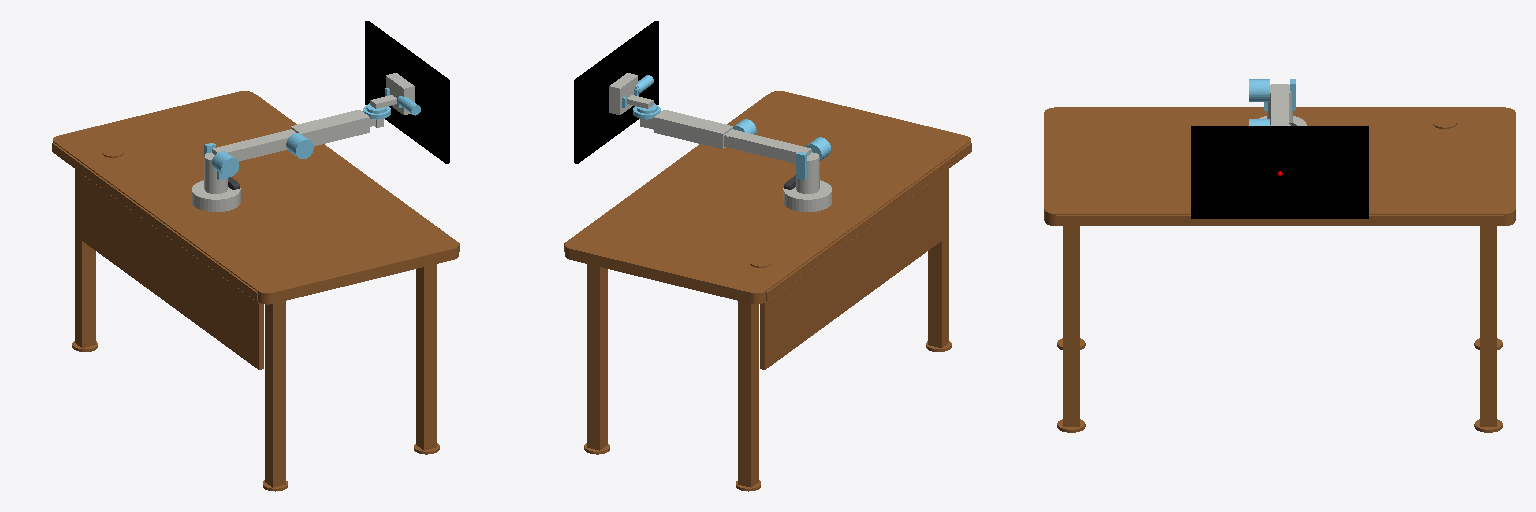
The robot description file, URDF, robot "face_screen_support_arm_depth_camera":
<?xml version='1.0' encoding='utf-8'?>
<robot name="face_screen_support_arm_depth_camera">
  <material name="depth_camera_lens">
    <color rgba="0 0 0 1" />
  </material>
  <material name="depth_camera_body">
    <color rgba="0.30 0.31 0.33 1" />
  </material>
  <material name="neutral_gray">
    <color rgba="0.78 0.78 0.76 1" />
  </material>
  <material name="joint_sky_blue">
    <color rgba="0.529 0.808 0.922 1" />
  </material>
  <material name="screen_black">
    <color rgba="0 0 0 1" />
  </material>
  <material name="center_red">
    <color rgba="1 0 0 1" />
  </material>
  <material name="office_desk_wood">
    <color rgba="0.62 0.42 0.24 1" />
  </material>
  <link name="desk_link">
    <visual name="office_desk">
      <geometry>
        <mesh filename="../meshes/office_desk.stl" scale="0.001 0.001 0.001" />
      </geometry>
      <material name="office_desk_wood" />
    </visual>
    <collision>
      <geometry>
        <mesh filename="../meshes/office_desk.stl" scale="0.001 0.001 0.001" />
      </geometry>
    </collision>
    <inertial>
      <origin xyz="0 0 0.37" rpy="0 0 0" />
      <mass value="25.0" />
      <inertia ixx="4.3" ixy="0" ixz="0" iyy="1.4" iyz="0" izz="5.4" />
    </inertial>
  </link>
  <joint name="desk_to_arm_base" type="fixed">
    <origin xyz="-0.150 0.000 0.740" rpy="0 0 0" />
    <parent link="desk_link" />
    <child link="base_link" />
  </joint>
  <link name="base_link">
    <visual name="base_disc">
      <geometry>
        <mesh filename="../visuals/base_disc.stl" scale="0.001 0.001 0.001" />
      </geometry>
      <material name="neutral_gray" />
    </visual>
    <visual name="mast">
      <geometry>
        <mesh filename="../visuals/mast.stl" scale="0.001 0.001 0.001" />
      </geometry>
      <material name="neutral_gray" />
    </visual>
    <visual name="depth_camera_body">
      <origin xyz="0.038 0.000 0.060" rpy="1.570796 0 1.570796" />
      <geometry>
        <mesh filename="../visuals/depth_camera_body.stl" scale="0.001 0.001 0.001" />
      </geometry>
      <material name="depth_camera_body" />
    </visual>
    <visual name="depth_camera_lens">
      <origin xyz="0.038 0.000 0.060" rpy="1.570796 0 1.570796" />
      <geometry>
        <mesh filename="../visuals/depth_camera_lens.stl" scale="0.001 0.001 0.001" />
      </geometry>
      <material name="depth_camera_lens" />
    </visual>
    <collision>
      <geometry>
        <mesh filename="../meshes/base_link.stl" scale="0.001 0.001 0.001" />
      </geometry>
    </collision>
    <inertial>
      <origin xyz="0 0 0.05" />
      <mass value="2.0" />
      <inertia ixx="0.02" ixy="0" ixz="0" iyy="0.02" iyz="0" izz="0.02" />
    </inertial>
  </link>
  <joint name="joint1_base_yaw" type="revolute">
    <origin xyz="0 0 0.16" rpy="0 0 0" />
    <parent link="base_link" />
    <child link="yaw_link" />
    <axis xyz="0 0 1" />
    <limit lower="-2.61799" upper="2.61799" effort="30" velocity="1.5" />
  </joint>
  <link name="yaw_link">
    <visual name="yaw_bearing">
      <geometry>
        <mesh filename="../visuals/yaw_bearing.stl" scale="0.001 0.001 0.001" />
      </geometry>
      <material name="joint_sky_blue" />
    </visual>
    <visual name="shoulder_yoke_l">
      <geometry>
        <mesh filename="../visuals/shoulder_yoke_l.stl" scale="0.001 0.001 0.001" />
      </geometry>
      <material name="joint_sky_blue" />
    </visual>
    <visual name="shoulder_yoke_r">
      <geometry>
        <mesh filename="../visuals/shoulder_yoke_r.stl" scale="0.001 0.001 0.001" />
      </geometry>
      <material name="joint_sky_blue" />
    </visual>
    <visual name="joint2_axis_hint">
      <geometry>
        <mesh filename="../visuals/joint2_axis_hint.stl" scale="0.001 0.001 0.001" />
      </geometry>
      <material name="joint_sky_blue" />
    </visual>
    <collision>
      <geometry>
        <mesh filename="../meshes/yaw_link.stl" scale="0.001 0.001 0.001" />
      </geometry>
    </collision>
    <inertial>
      <origin xyz="0 0 0" />
      <mass value="0.7" />
      <inertia ixx="0.005" ixy="0" ixz="0" iyy="0.005" iyz="0" izz="0.005" />
    </inertial>
  </link>
  <joint name="joint2_shoulder_pitch" type="revolute">
    <origin xyz="0 0 0" rpy="0 0 0" />
    <parent link="yaw_link" />
    <child link="upper_arm" />
    <axis xyz="0 1 0" />
    <limit lower="-3.49066" upper="0.349066" effort="35" velocity="1.2" />
  </joint>
  <link name="upper_arm">
    <visual name="upper_bar">
      <geometry>
        <mesh filename="../visuals/upper_bar.stl" scale="0.001 0.001 0.001" />
      </geometry>
      <material name="neutral_gray" />
    </visual>
    <visual name="upper_shoulder_hub">
      <geometry>
        <mesh filename="../visuals/upper_shoulder_hub.stl" scale="0.001 0.001 0.001" />
      </geometry>
      <material name="joint_sky_blue" />
    </visual>
    <visual name="upper_elbow_hub">
      <geometry>
        <mesh filename="../visuals/upper_elbow_hub.stl" scale="0.001 0.001 0.001" />
      </geometry>
      <material name="joint_sky_blue" />
    </visual>
    <collision>
      <geometry>
        <mesh filename="../meshes/upper_arm.stl" scale="0.001 0.001 0.001" />
      </geometry>
    </collision>
    <inertial>
      <origin xyz="0.14 0 0" />
      <mass value="0.8" />
      <inertia ixx="0.006" ixy="0" ixz="0" iyy="0.02" iyz="0" izz="0.02" />
    </inertial>
  </link>
  <joint name="joint3_elbow_pitch" type="revolute">
    <origin xyz="0.28 0 0" rpy="0 0 0" />
    <parent link="upper_arm" />
    <child link="forearm" />
    <axis xyz="0 1 0" />
    <limit lower="-2.96706" upper="2.96706" effort="30" velocity="1.2" />
  </joint>
  <link name="forearm">
    <visual name="forearm_bar">
      <geometry>
        <mesh filename="../visuals/forearm_bar.stl" scale="0.001 0.001 0.001" />
      </geometry>
      <material name="neutral_gray" />
    </visual>
    <visual name="forearm_elbow_hub">
      <geometry>
        <mesh filename="../visuals/forearm_elbow_hub.stl" scale="0.001 0.001 0.001" />
      </geometry>
      <material name="joint_sky_blue" />
    </visual>
    <visual name="slider_outer_tube">
      <geometry>
        <mesh filename="../visuals/slider_outer_tube.stl" scale="0.001 0.001 0.001" />
      </geometry>
      <material name="neutral_gray" />
    </visual>
    <collision>
      <geometry>
        <mesh filename="../meshes/forearm.stl" scale="0.001 0.001 0.001" />
      </geometry>
    </collision>
    <inertial>
      <origin xyz="0.12 0 0" />
      <mass value="0.7" />
      <inertia ixx="0.004" ixy="0" ixz="0" iyy="0.015" iyz="0" izz="0.015" />
    </inertial>
  </link>
  <joint name="joint4_telescopic" type="prismatic">
    <origin xyz="0.24 0 0" rpy="0 0 0" />
    <parent link="forearm" />
    <child link="telescopic_slider" />
    <axis xyz="1 0 0" />
    <limit lower="0" upper="0.28" effort="120" velocity="0.25" />
  </joint>
  <link name="telescopic_slider">
    <visual name="inner_tube">
      <geometry>
        <mesh filename="../visuals/inner_tube.stl" scale="0.001 0.001 0.001" />
      </geometry>
      <material name="neutral_gray" />
    </visual>
    <visual name="linear_rail_hint">
      <geometry>
        <mesh filename="../visuals/linear_rail_hint.stl" scale="0.001 0.001 0.001" />
      </geometry>
      <material name="neutral_gray" />
    </visual>
    <visual name="telescopic_end_cap">
      <geometry>
        <mesh filename="../visuals/telescopic_end_cap.stl" scale="0.001 0.001 0.001" />
      </geometry>
      <material name="neutral_gray" />
    </visual>
    <visual name="pan_mount_boss">
      <geometry>
        <mesh filename="../visuals/pan_mount_boss.stl" scale="0.001 0.001 0.001" />
      </geometry>
      <material name="joint_sky_blue" />
    </visual>
    <collision>
      <geometry>
        <mesh filename="../meshes/telescopic_slider.stl" scale="0.001 0.001 0.001" />
      </geometry>
    </collision>
    <inertial>
      <origin xyz="0 0 0.04" />
      <mass value="0.55" />
      <inertia ixx="0.003" ixy="0" ixz="0" iyy="0.012" iyz="0" izz="0.012" />
    </inertial>
  </link>
  <joint name="joint5_screen_pan" type="revolute">
    <origin xyz="0.085 0 0.024" rpy="0 0 0" />
    <parent link="telescopic_slider" />
    <child link="screen_pan_link" />
    <axis xyz="0 0 1" />
      <limit lower="-1.74533" upper="1.74533" effort="8" velocity="2.0" />
  </joint>
  <link name="screen_pan_link">
    <visual name="pan_base_disc">
      <geometry>
        <mesh filename="../visuals/pan_base_disc.stl" scale="0.001 0.001 0.001" />
      </geometry>
      <material name="joint_sky_blue" />
    </visual>
    <visual name="pan_rotor_cap">
      <geometry>
        <mesh filename="../visuals/pan_rotor_cap.stl" scale="0.001 0.001 0.001" />
      </geometry>
      <material name="joint_sky_blue" />
    </visual>
    <visual name="low_pitch_bridge">
      <geometry>
        <mesh filename="../visuals/low_pitch_bridge.stl" scale="0.001 0.001 0.001" />
      </geometry>
      <material name="neutral_gray" />
    </visual>
    <visual name="pitch_side_plate_l">
      <geometry>
        <mesh filename="../visuals/pitch_side_plate_l.stl" scale="0.001 0.001 0.001" />
      </geometry>
      <material name="joint_sky_blue" />
    </visual>
    <visual name="pitch_side_plate_r">
      <geometry>
        <mesh filename="../visuals/pitch_side_plate_r.stl" scale="0.001 0.001 0.001" />
      </geometry>
      <material name="joint_sky_blue" />
    </visual>
    <visual name="pitch_axis_hint">
      <geometry>
        <mesh filename="../visuals/pitch_axis_hint.stl" scale="0.001 0.001 0.001" />
      </geometry>
      <material name="joint_sky_blue" />
    </visual>
    <collision>
      <geometry>
        <mesh filename="../meshes/screen_pan_link.stl" scale="0.001 0.001 0.001" />
      </geometry>
    </collision>
    <inertial>
      <origin xyz="0 0 0" />
      <mass value="0.25" />
      <inertia ixx="0.001" ixy="0" ixz="0" iyy="0.001" iyz="0" izz="0.001" />
    </inertial>
  </link>
  <joint name="joint6_screen_pitch" type="revolute">
    <origin xyz="0.07 0 0.042" rpy="0 0 0" />
    <parent link="screen_pan_link" />
    <child link="screen_pitch_link" />
    <axis xyz="0 1 0" />
    <limit lower="-1.0472" upper="1.0472" effort="8" velocity="2.0" />
  </joint>
  <link name="screen_pitch_link">
    <visual name="screen_pitch_hub">
      <geometry>
        <mesh filename="../visuals/screen_pitch_hub.stl" scale="0.001 0.001 0.001" />
      </geometry>
      <material name="joint_sky_blue" />
    </visual>
    <visual name="screen_plate">
      <geometry>
        <mesh filename="../visuals/screen_plate.stl" scale="0.001 0.001 0.001" />
      </geometry>
      <material name="screen_black" />
    </visual>
    <visual name="screen_lower_mount">
      <geometry>
        <mesh filename="../visuals/screen_lower_mount.stl" scale="0.001 0.001 0.001" />
      </geometry>
      <material name="neutral_gray" />
    </visual>
    <visual name="screen_back_mount">
      <geometry>
        <mesh filename="../visuals/screen_back_mount.stl" scale="0.001 0.001 0.001" />
      </geometry>
      <material name="neutral_gray" />
    </visual>
    <visual name="screen_center_marker">
      <geometry>
        <mesh filename="../visuals/screen_center_marker.stl" scale="0.001 0.001 0.001" />
      </geometry>
      <material name="center_red" />
    </visual>
    <inertial>
      <origin xyz="0.04 0 0" />
      <mass value="0.65" />
      <inertia ixx="0.006" ixy="0" ixz="0" iyy="0.004" iyz="0" izz="0.008" />
    </inertial>
  </link>
  <joint name="screen_center_fixed" type="fixed">
    <origin xyz="0.052 0 0.0" rpy="0 0 0" />
    <parent link="screen_pitch_link" />
    <child link="screen_center" />
  </joint>
  <link name="screen_center" />
</robot>

--- Facts derived from the render (not from the file) ---
The picture shows the robot from 3 angles, left to right: view 1: azimuth 30°, elevation 25°; view 2: azimuth 150°, elevation 25°; view 3: azimuth 270°, elevation 25°; orthographic projection.
Robot: face_screen_support_arm_depth_camera — 9 links, 8 joints (5 revolute, 1 prismatic, 2 fixed); root link desk_link; default pose: every joint at zero.
Links seen in each view (by area): view 1: desk_link, screen_pitch_link, upper_arm, base_link, forearm, screen_pan_link; view 2: desk_link, screen_pitch_link, upper_arm, forearm, base_link, screen_pan_link; view 3: desk_link, screen_pitch_link, upper_arm.
Boxes of the visible links, x1,y1,x2,y2 form: desk_link: (52,91,459,491); screen_pitch_link: (365,21,449,163); upper_arm: (212,130,313,177); base_link: (192,152,240,211); forearm: (287,110,369,145); screen_pan_link: (363,88,401,119); desk_link: (564,91,971,491); screen_pitch_link: (574,21,658,163); upper_arm: (729,119,830,163); forearm: (654,110,736,148); base_link: (783,153,831,211); screen_pan_link: (622,86,660,119); desk_link: (1044,107,1515,432); screen_pitch_link: (1191,126,1368,218); upper_arm: (1249,79,1288,125).
Bounding box of the posed robot: 0.967 × 1.4 × 1.12 m (x, y, z).
28 mesh visuals loaded from 30 distinct referenced files (28 binary STL); not drawn: 2 (reference not matched to a file when rendering).
